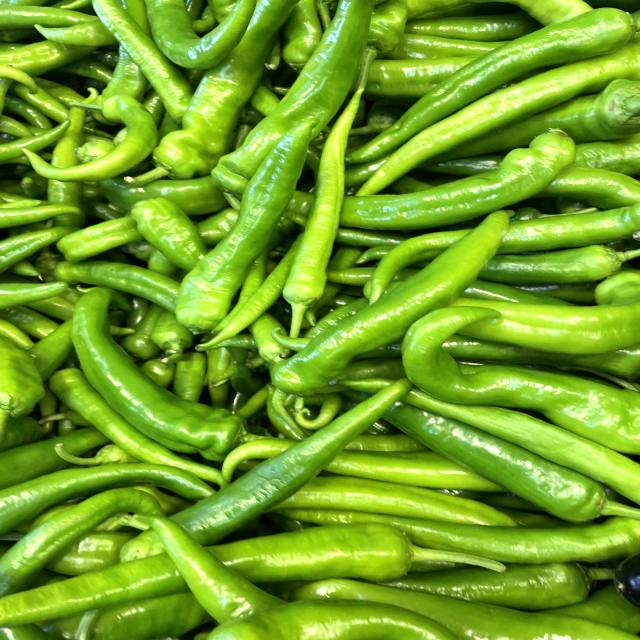green pepper: (0, 514, 513, 633), (340, 6, 640, 163), (172, 101, 335, 335), (272, 60, 380, 343)
